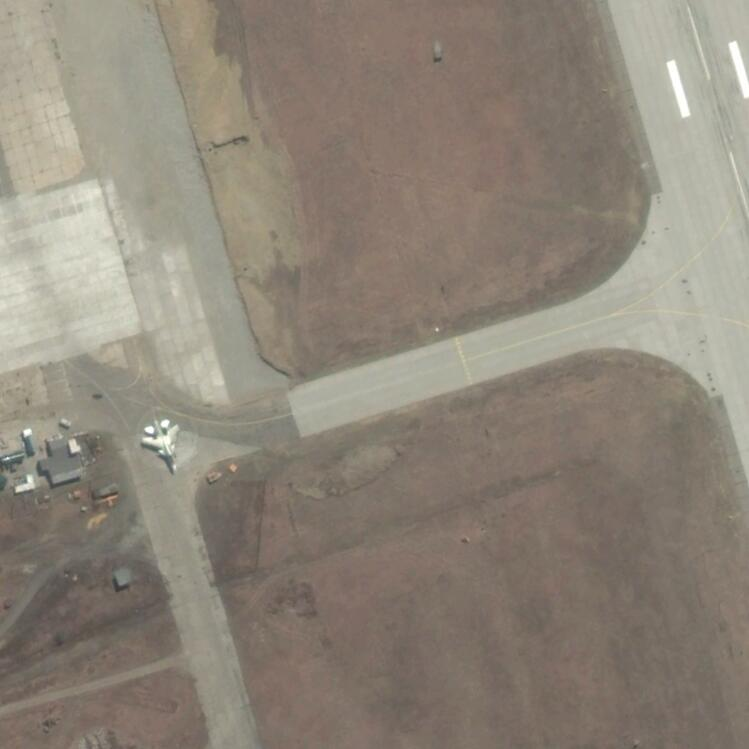A19: (139, 417, 181, 475)
